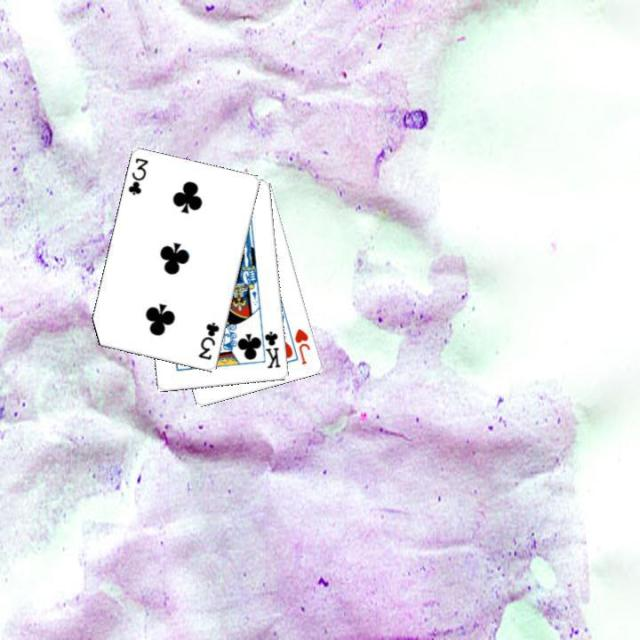3C: (195, 318, 221, 362), (124, 154, 150, 197)
JH: (291, 324, 312, 366)
KC: (257, 324, 283, 370)
